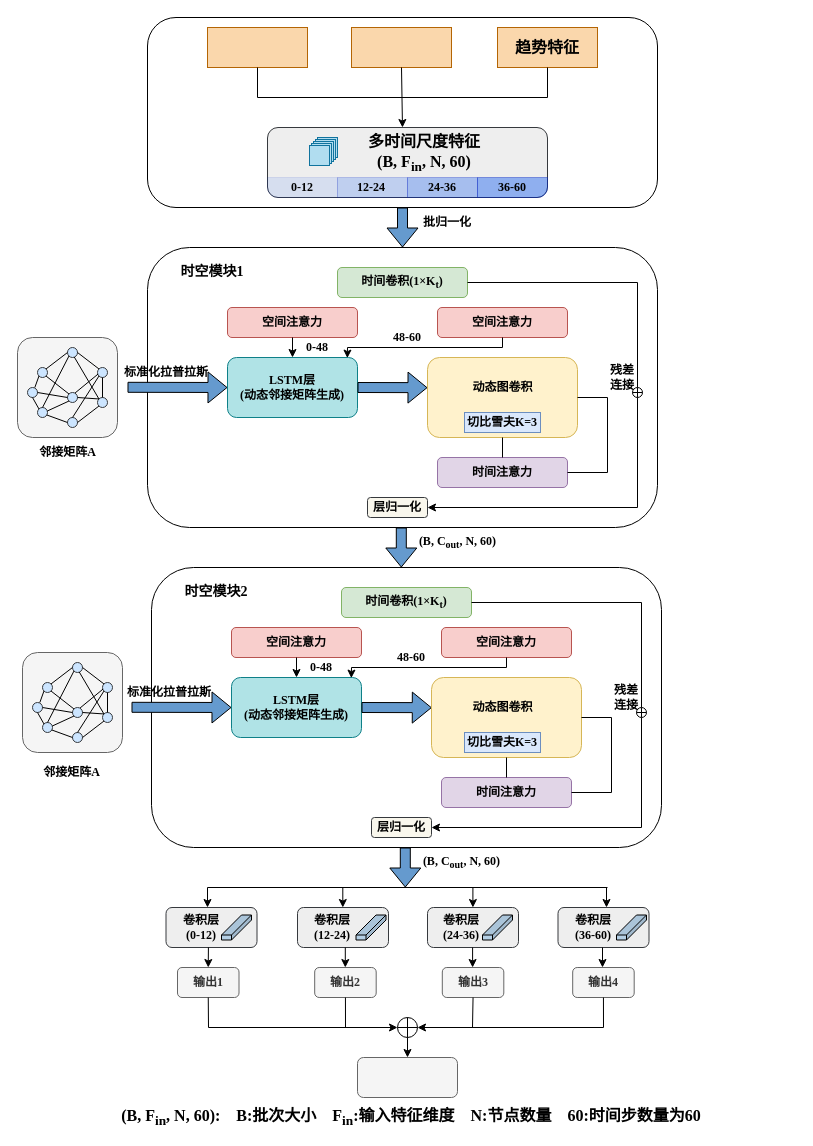
Some shapes in this 813 by 1146 pixel diagram are drawn without their labels. The centre of each missing label's shape, as x and y in pixels:
"周期特征" goes at (401,47).
"近期特征" goes at (257,47).
"预测结果 (B, T , N, F out )" goes at (407,1077).
